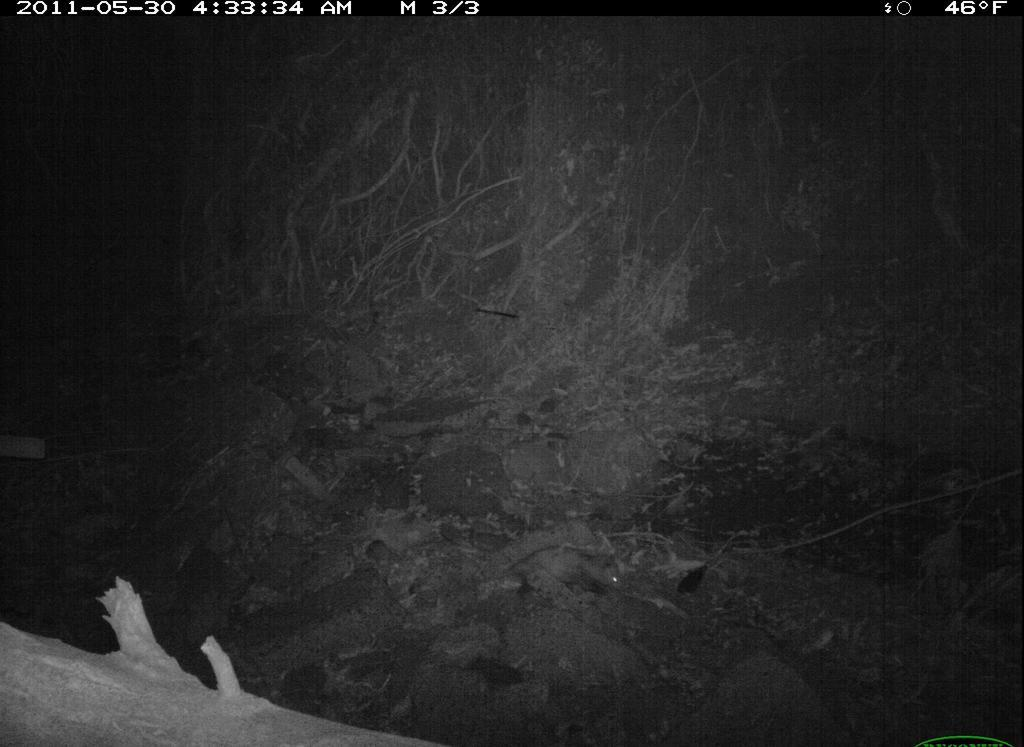opossum: (463, 530, 641, 623)
